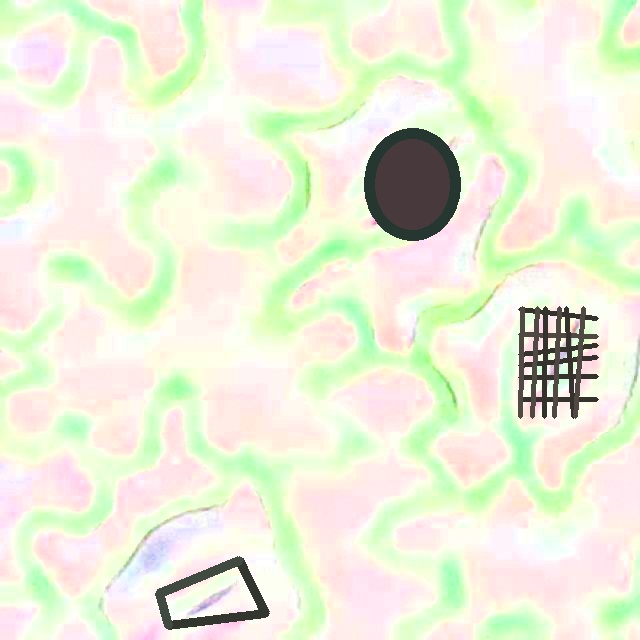open: (364, 128, 459, 241), (518, 306, 598, 418), (155, 556, 269, 629)
